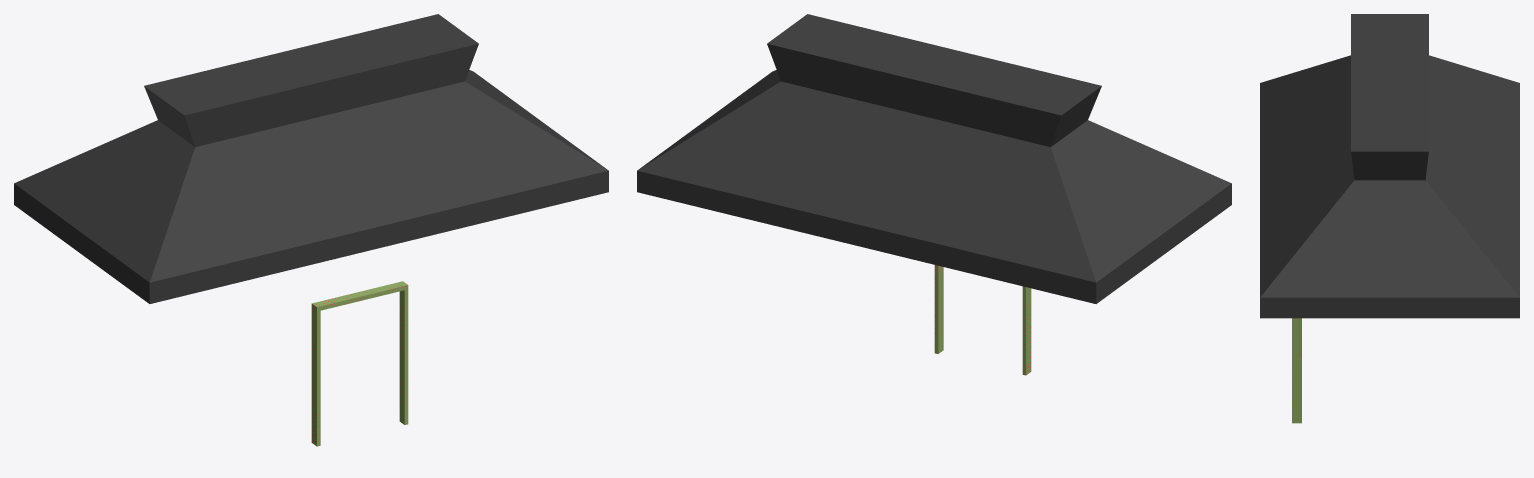
The model's file is House02.obj.
The picture shows the model from 3 angles, left to right: view 1: azimuth 30°, elevation 25°; view 2: azimuth 150°, elevation 25°; view 3: azimuth 270°, elevation 25°; orthographic projection. The views are drawn at different scales.
Parts seen in each view (by area): view 1: House02; view 2: House02; view 3: House02.
Part boxes in pixels (<box>): House02: <box>14,14,608,446</box>; House02: <box>637,14,1231,375</box>; House02: <box>1260,14,1519,423</box>.
Size of the model in its own units: 1.73 by 1.2 by 0.8866.
Materials: 1 (1 with a texture image).
